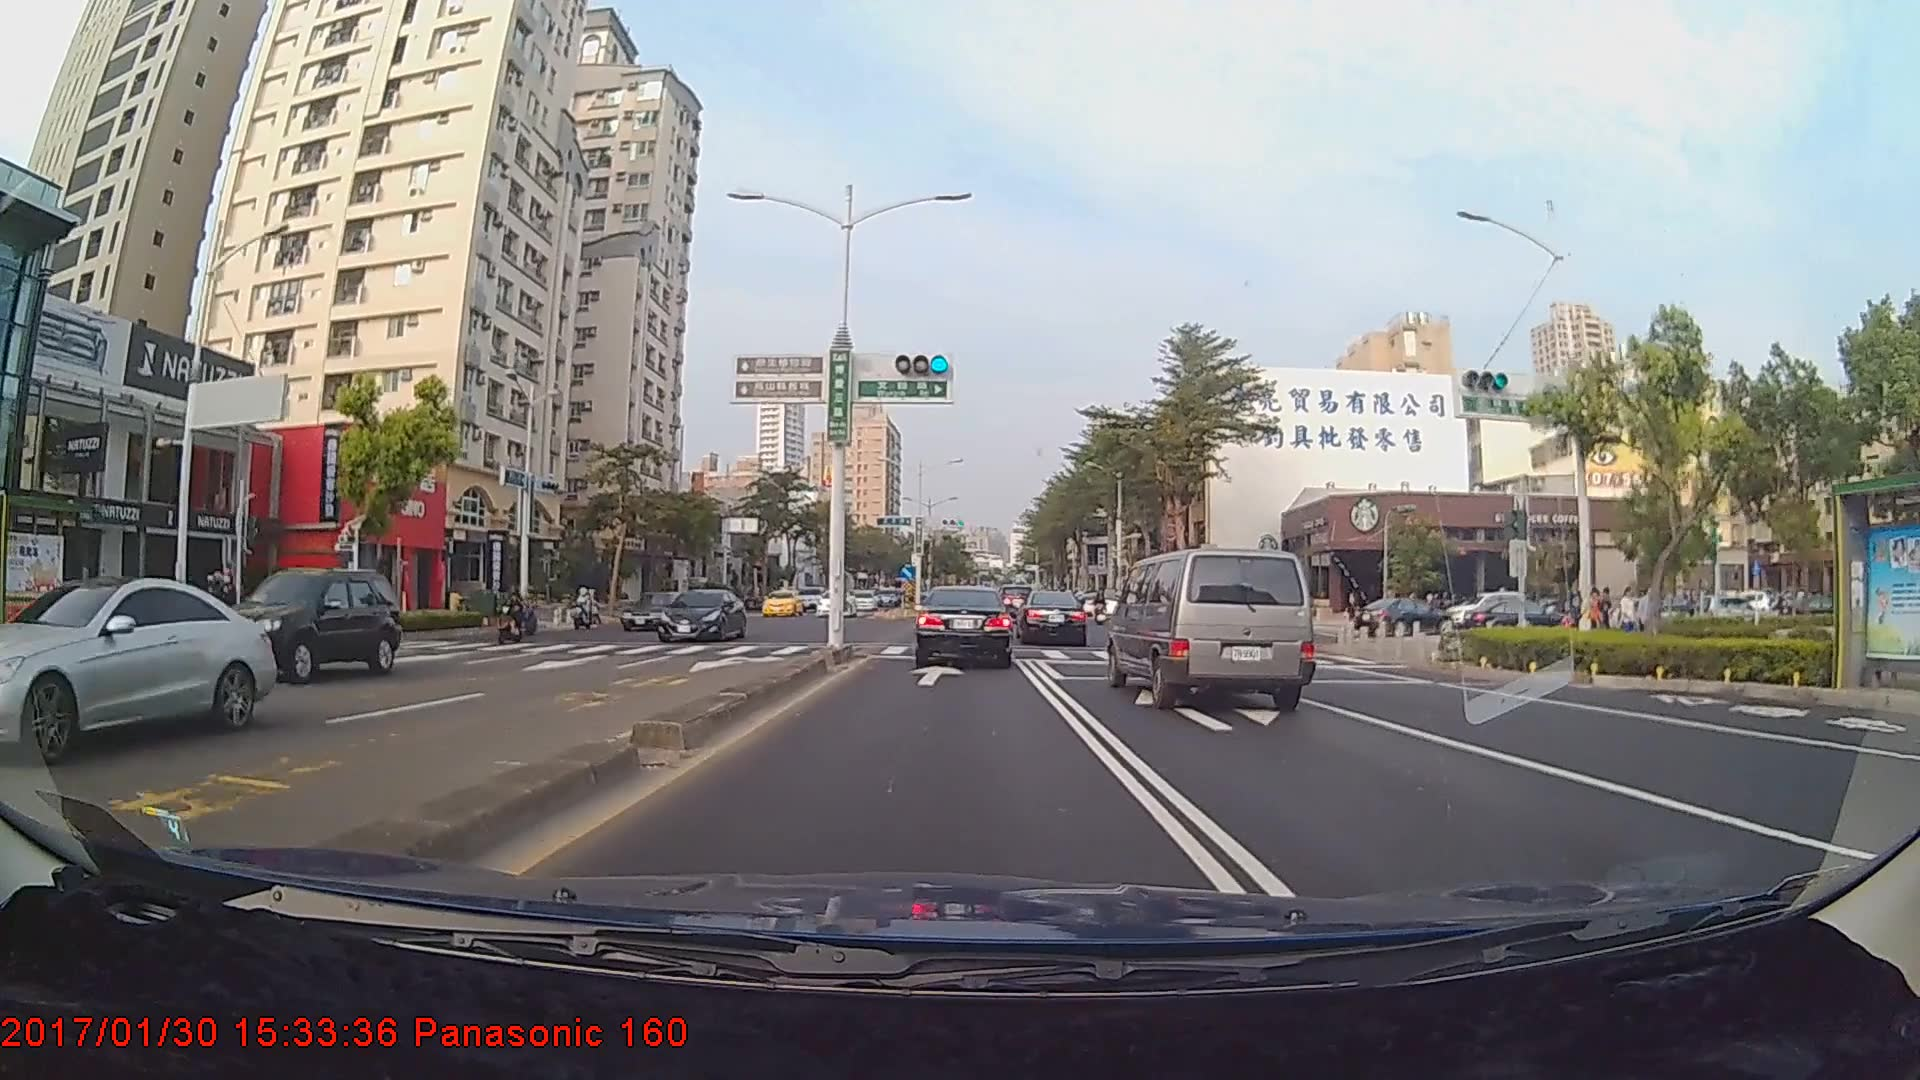pedestrian: (1640, 585, 1660, 648), (1619, 584, 1639, 644)
rider: (185, 561, 249, 644), (497, 581, 538, 649)
vehicle: (0, 574, 279, 767), (1107, 544, 1319, 710), (205, 567, 404, 682), (914, 586, 1013, 667), (653, 589, 748, 645), (1352, 596, 1450, 640), (1016, 590, 1087, 646), (618, 589, 694, 629), (813, 587, 858, 618), (760, 587, 804, 616), (849, 589, 878, 611)
